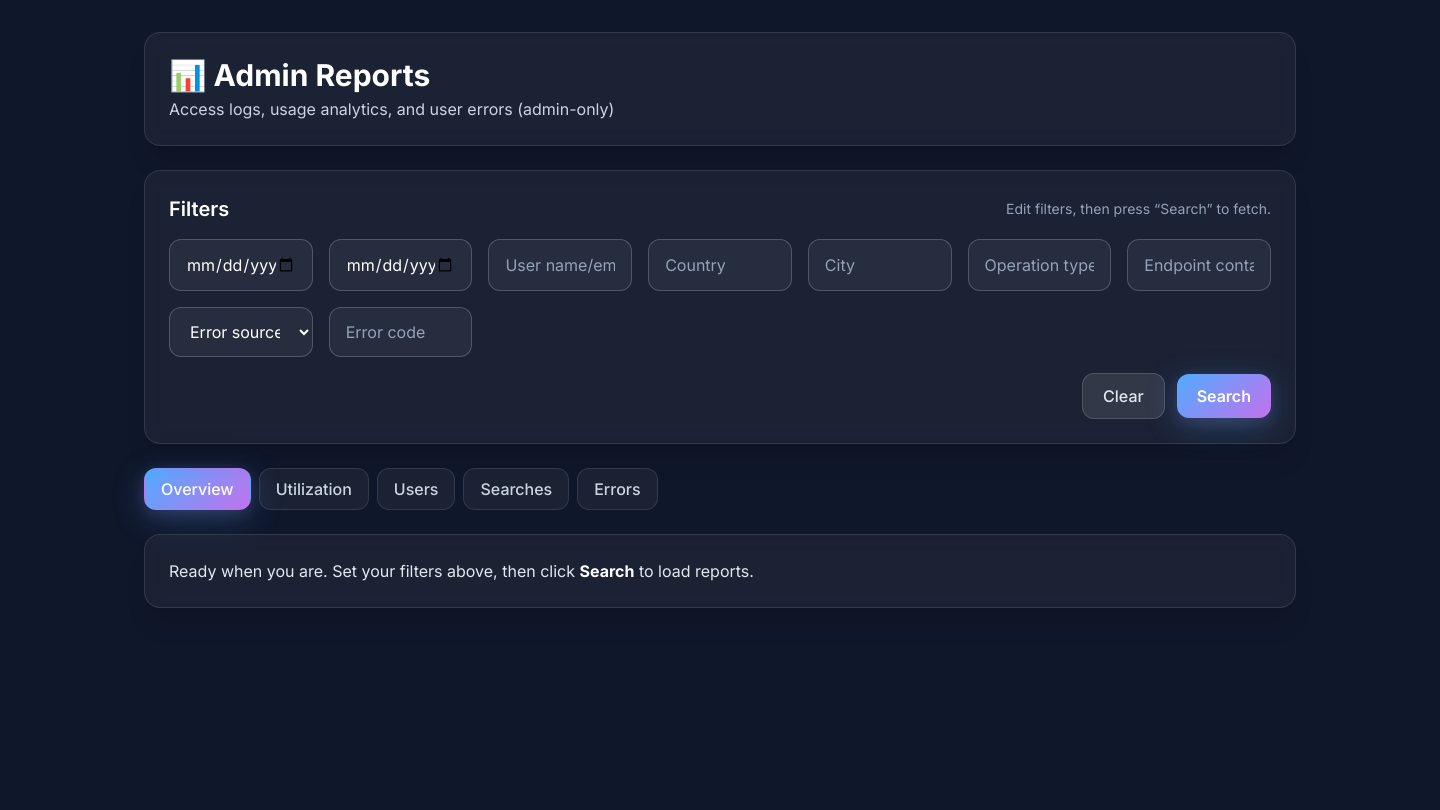
AdminReports › Clear button resets filters and data
Click the button "Search" at [1224, 396], box [1177,374,1271,418]
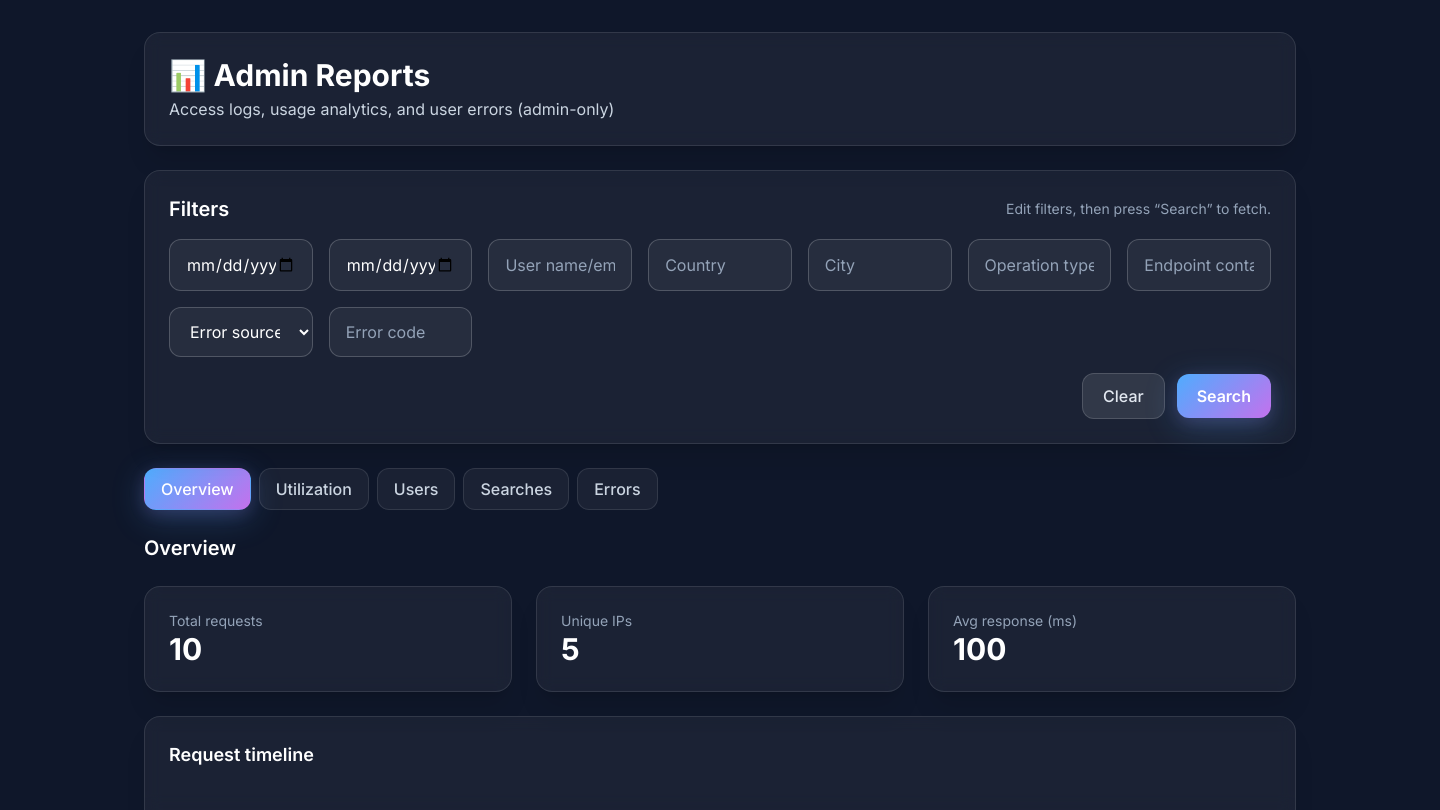
Check: the heading "Overview" is shown, box [144,536,236,560]
Click the button "Clear" at [1123, 396], box [1082,373,1165,419]
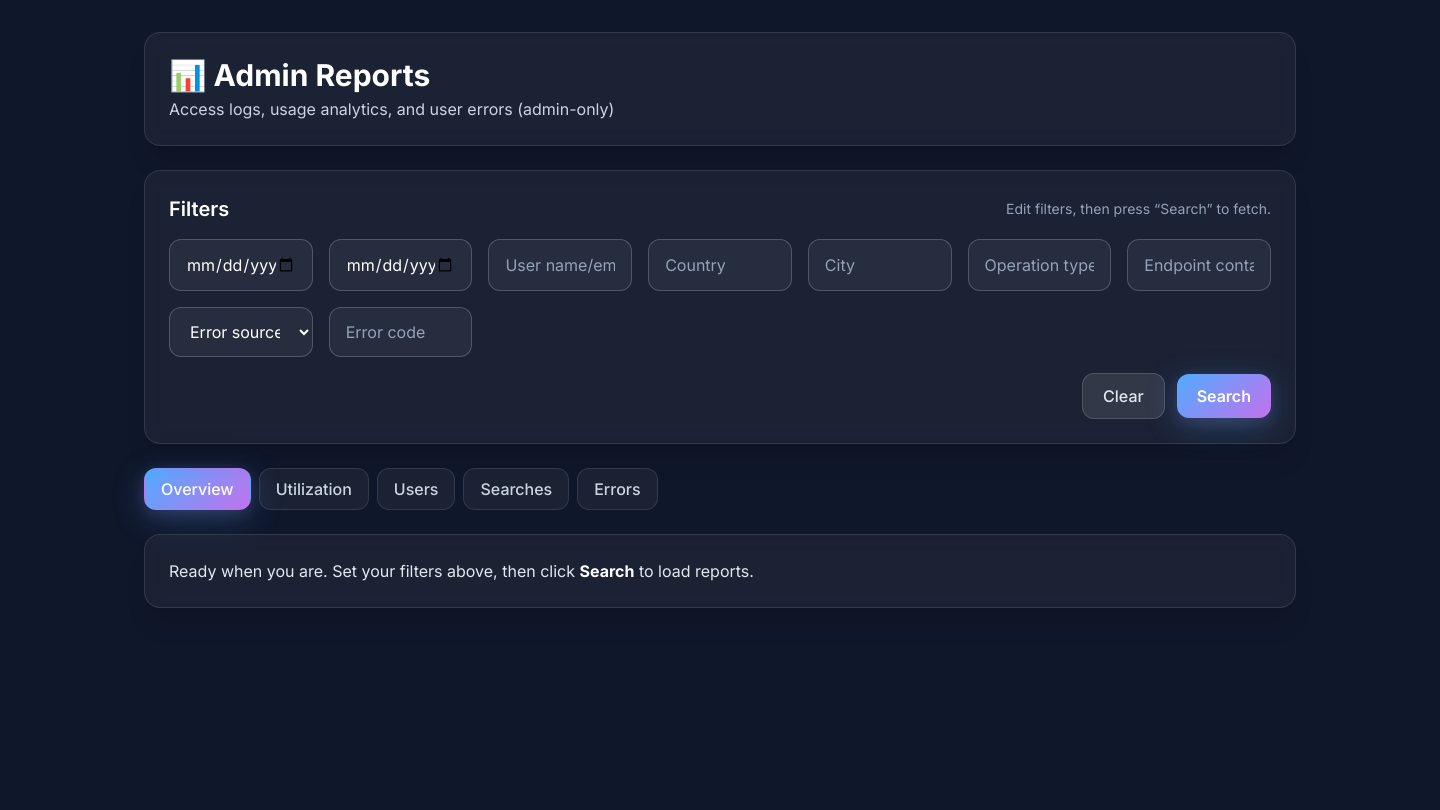
Check: the text "Ready when you are" is shown, box [169,561,580,581]
